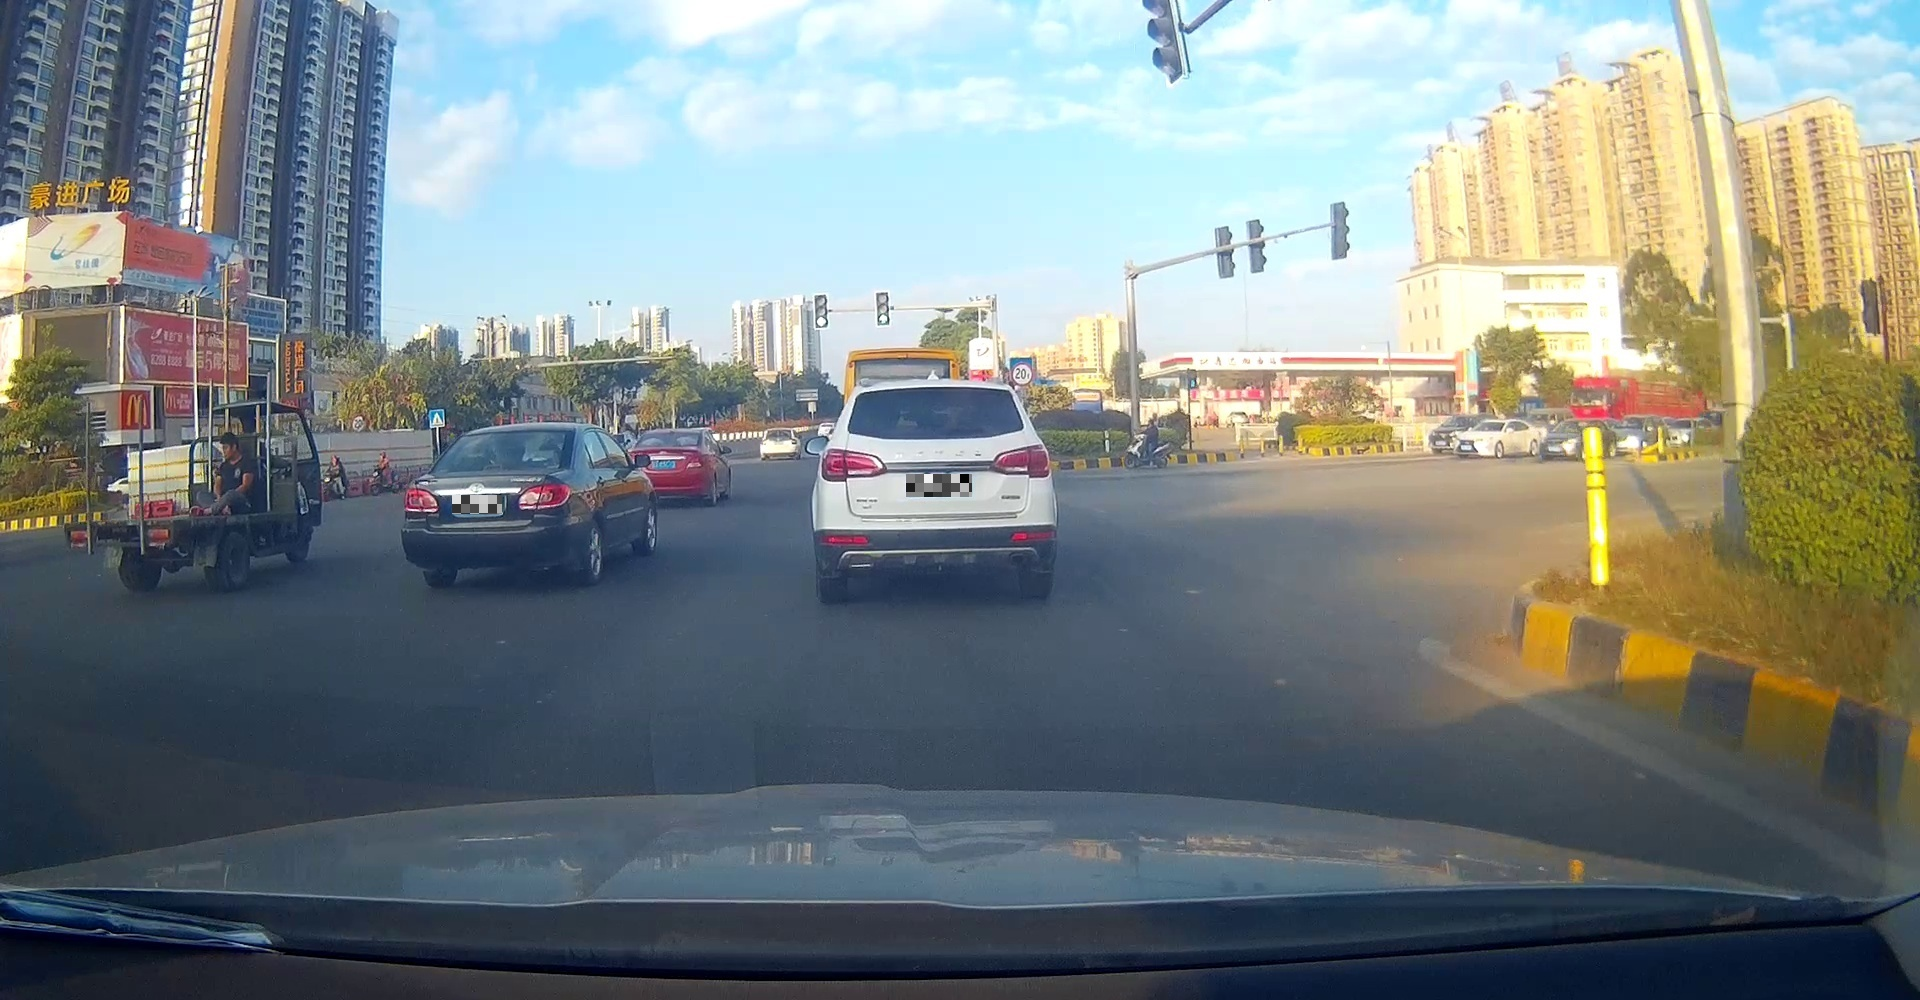L_light: (822, 448, 888, 482), (403, 487, 439, 514)
R_light: (988, 444, 1050, 478), (517, 484, 571, 511)
T_light: (910, 387, 966, 391), (483, 464, 505, 470)
day-no: (811, 377, 1057, 603), (400, 423, 584, 588)
plate_1: (452, 495, 502, 514)
plate_2: (905, 475, 971, 497)
